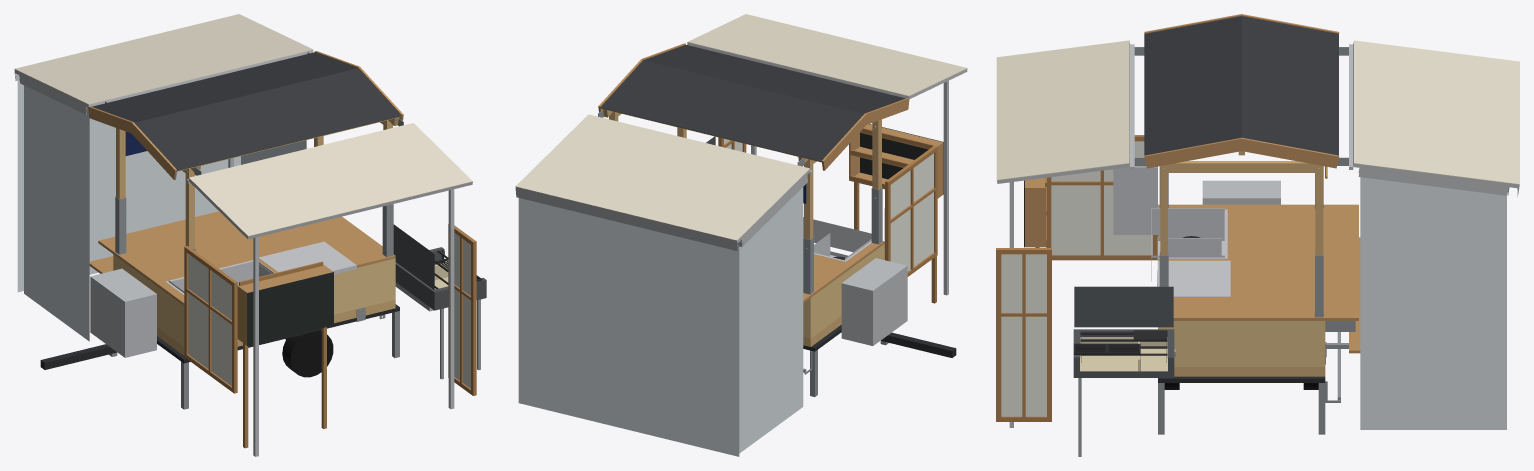
3 views of the same model, side by side, from view 1: azimuth 30°, elevation 25°; view 2: azimuth 150°, elevation 25°; view 3: azimuth 270°, elevation 25° (orthographic). The views are drawn at different scales.
Visible parts, largest first — view 1: b106, b290, b231, b194, b229, b75, b283, b341, b319, b48, b313, b318 (+28 smaller); view 2: b229, b194, b106, b231, b290, b283, b319, b206, b52, b318, b341, b75 (+13 smaller); view 3: b233, b106, b194, b290, b75, b313, b319, b56, b263, b79, b323, b112 (+25 smaller).
Part boxes in pixels (x1,y1,x2,y2): b106: (92, 52, 401, 170); b290: (189, 123, 472, 236); b231: (24, 85, 89, 341); b194: (14, 14, 313, 104); b229: (17, 77, 240, 292); b75: (113, 216, 395, 305); b283: (90, 268, 156, 357); b341: (247, 272, 333, 345); b319: (188, 254, 231, 385); b48: (334, 258, 395, 313); b313: (454, 233, 470, 388); b318: (184, 246, 237, 393); b229: (518, 198, 739, 456); b194: (515, 114, 809, 240); b106: (600, 45, 905, 161); b231: (739, 187, 803, 453); b290: (687, 14, 967, 96); b283: (841, 258, 907, 345); b319: (890, 153, 933, 271); b206: (515, 190, 742, 251); b52: (811, 244, 883, 336); b318: (885, 145, 937, 276); b341: (860, 124, 943, 193); b75: (803, 241, 884, 297); b233: (1360, 177, 1506, 429); b106: (1144, 16, 1338, 155); b194: (1354, 40, 1519, 184); b290: (996, 40, 1129, 180); b75: (1158, 204, 1325, 320); b313: (1001, 254, 1046, 416); b319: (1051, 141, 1152, 254); b56: (1168, 321, 1299, 355); b263: (1074, 286, 1173, 327); b79: (1325, 204, 1358, 320); b323: (1113, 167, 1157, 234); b112: (1144, 137, 1339, 168).
Bounding box in the file's own units: 4265 × 2912 × 4691.
